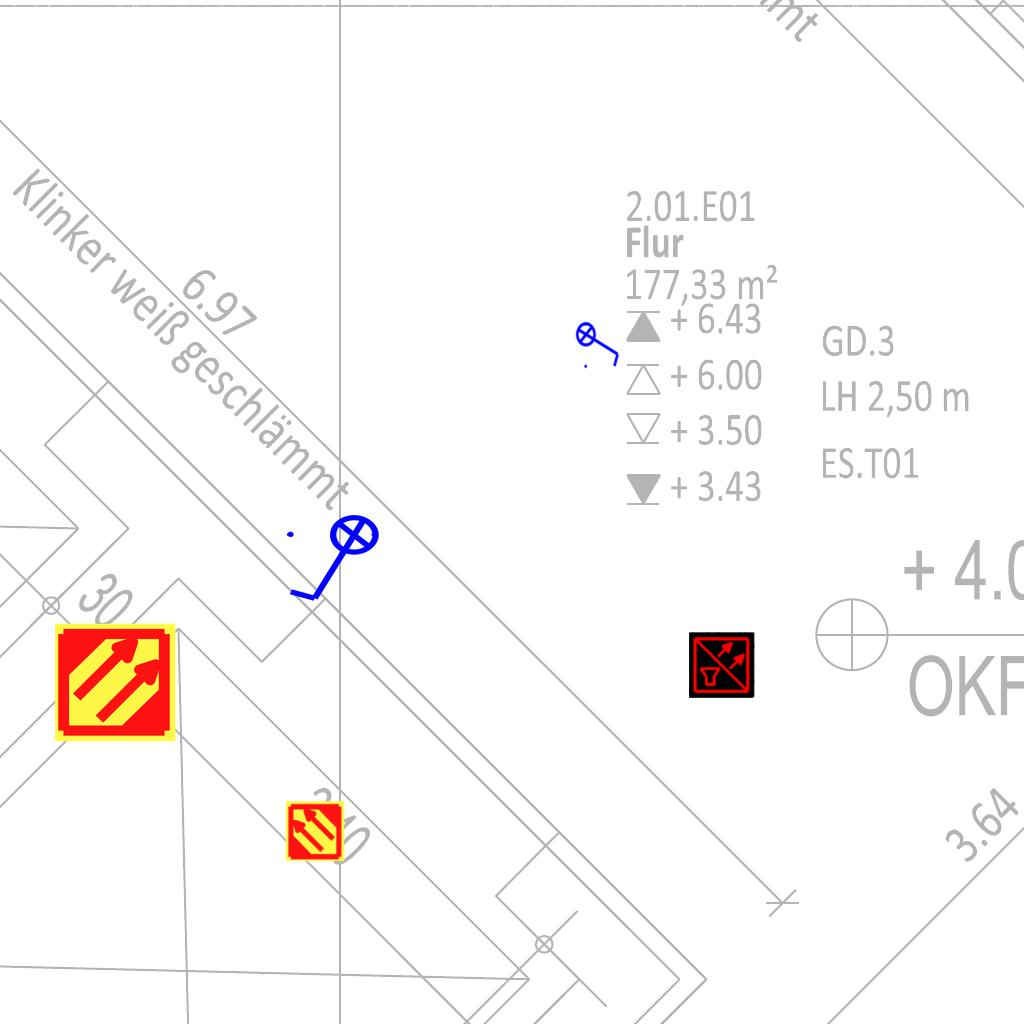ASR_Ansaugrauchmelder: (53, 620, 178, 745), (284, 800, 346, 862)
Ausschalter_beleuchtet: (281, 513, 393, 609), (575, 315, 623, 371)
OKW_Multisensormelder_(Kombination_optischer_Rauch-Kahlenmonoxid_Waerme-Melder): (689, 632, 755, 698)
